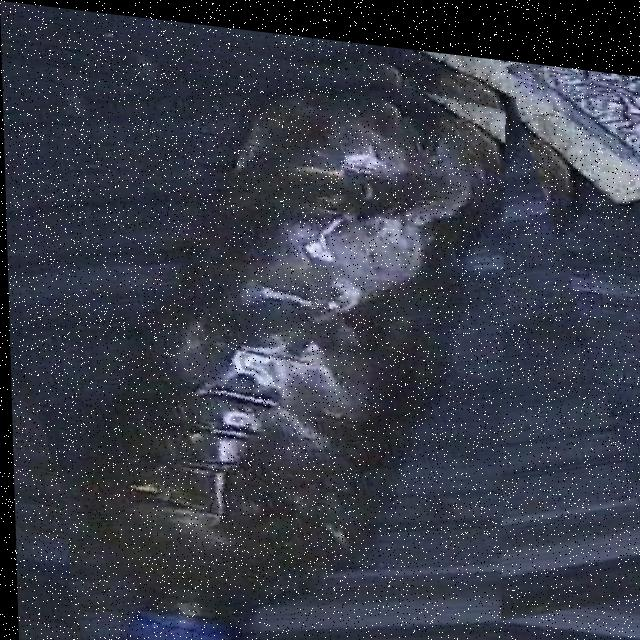plasticbottle: (64, 73, 505, 640)
